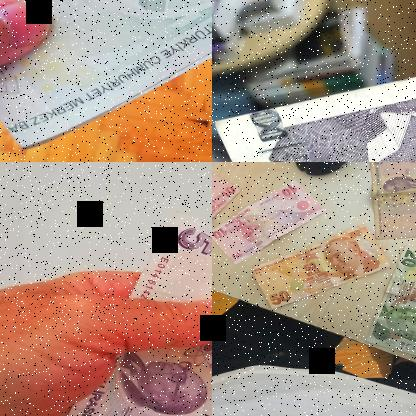5 TL: (0, 0, 211, 152)
